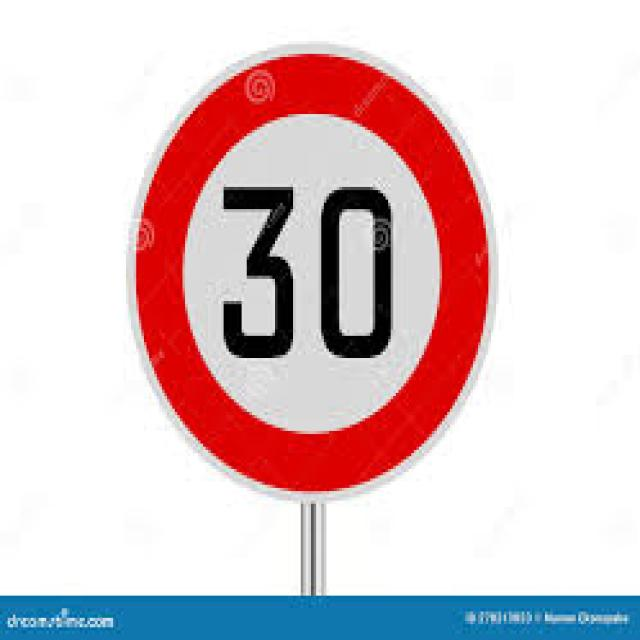Speed limit 30: (124, 39, 500, 505)
